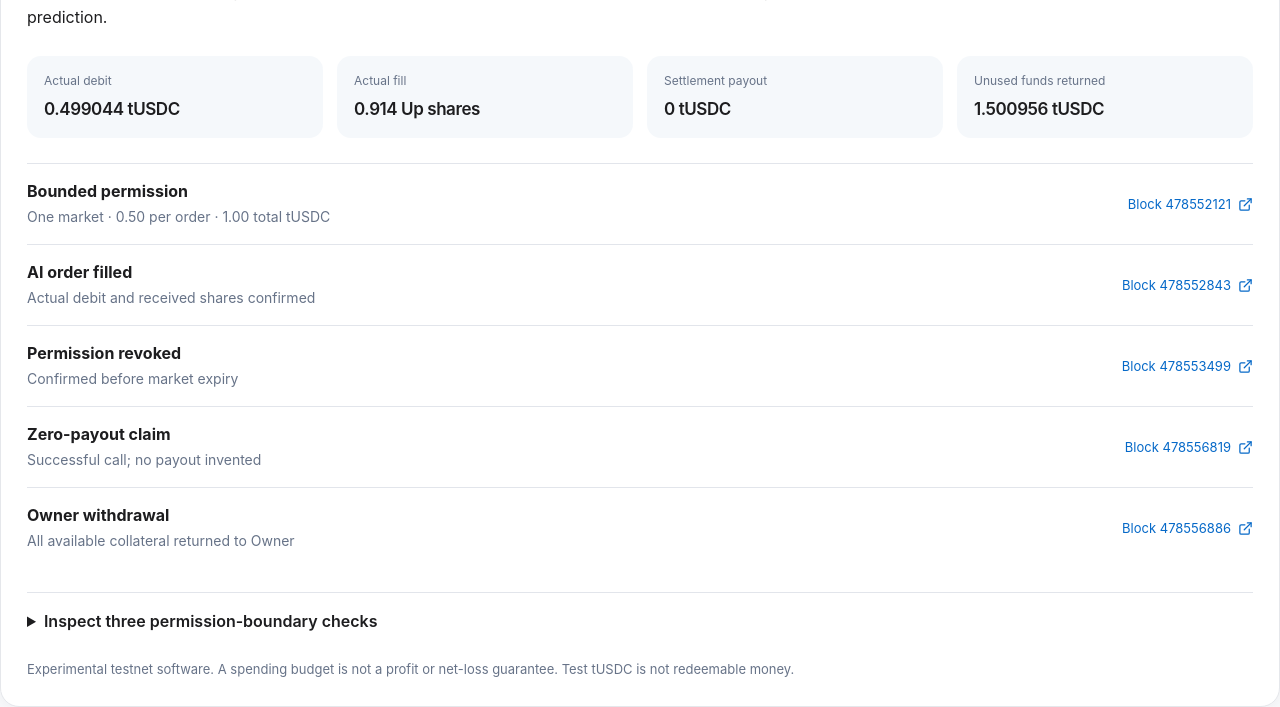
Test: recorded public-chain examples › does not present a historical losing order as live profit
(page scrolled)
expect the text "0.499044 tUSDC" is shown: met, box [44,99,180,119]
expect the text "1.500956 tUSDC" is shown: met, box [974,99,1104,119]
Click the heading "Inspect three permission-boundary checks" at (211, 621), box [44,611,377,631]
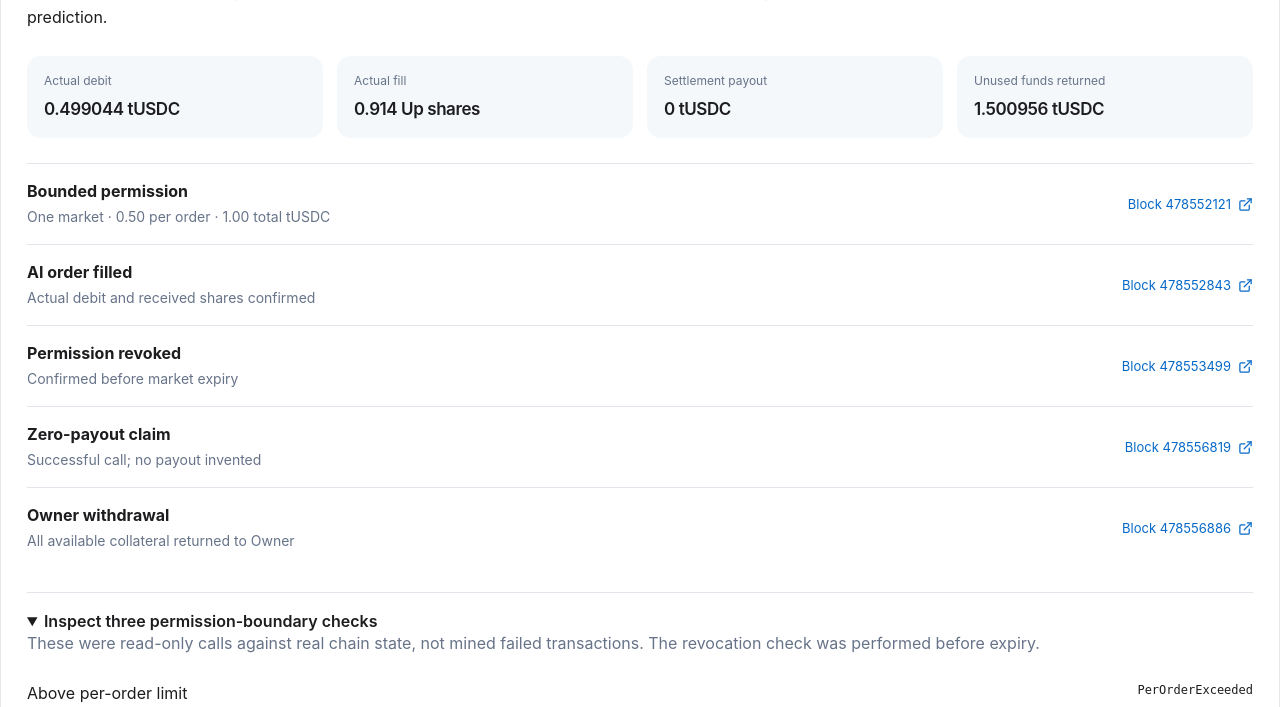
expect the text "not mined failed transactions" is shown: met, box [27,633,1040,653]
